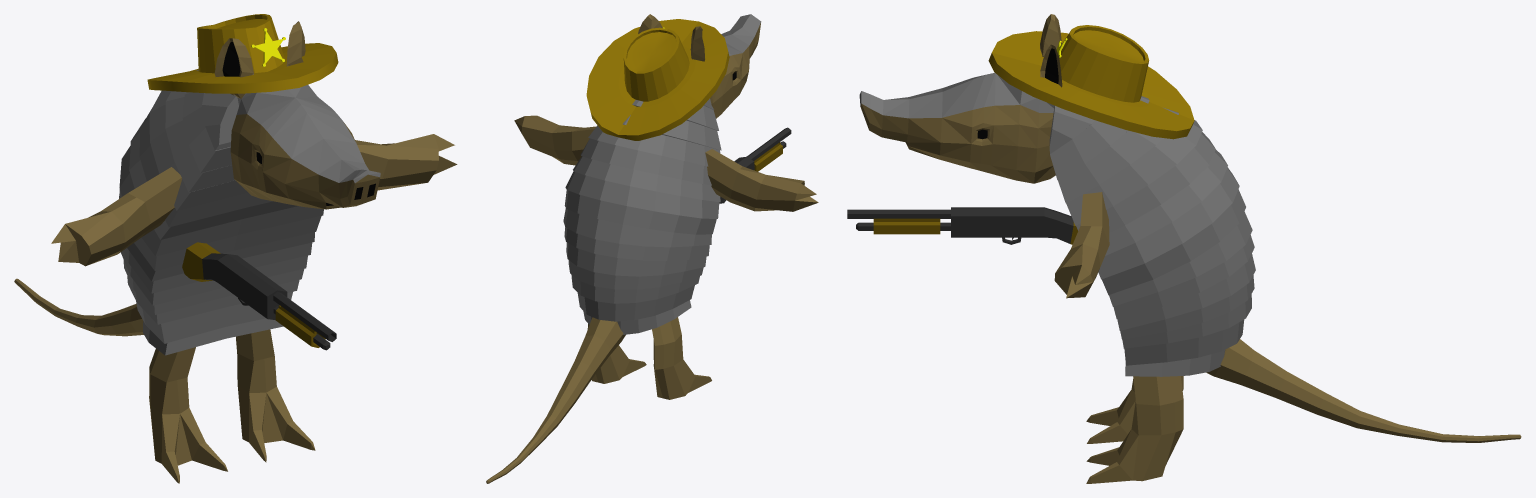
The model's file is demo armadillo.fbx.
3 renders of one model, left to right at view 1: azimuth 30°, elevation 25°; view 2: azimuth 150°, elevation 25°; view 3: azimuth 270°, elevation 25°, orthographic. The views are drawn at different scales.
Visible parts, largest first — view 1: polySurface16, polySurface14, Hat:polySurface7, polySurface19, polySurface17, Shotgun1, polySurface18, polySurface20, polySurface15; view 2: polySurface16, Hat:polySurface7, polySurface19, polySurface15, polySurface14, polySurface17, polySurface20, Shotgun1, polySurface18; view 3: polySurface16, polySurface14, Hat:polySurface7, Shotgun1, polySurface15, polySurface18, polySurface20, polySurface17.
Part boxes in pixels (x1=…): polySurface16: x1=119, y1=69, x2=323, y2=355; polySurface14: x1=214, y1=21, x2=380, y2=209; Hat:polySurface7: x1=147, y1=14, x2=338, y2=93; polySurface19: x1=51, y1=167, x2=181, y2=266; polySurface17: x1=149, y1=347, x2=227, y2=483; Shotgun1: x1=182, y1=242, x2=336, y2=350; polySurface18: x1=236, y1=329, x2=315, y2=462; polySurface20: x1=355, y1=134, x2=457, y2=190; polySurface15: x1=14, y1=278, x2=143, y2=336; polySurface16: x1=563, y1=98, x2=721, y2=334; Hat:polySurface7: x1=586, y1=19, x2=729, y2=140; polySurface19: x1=705, y1=149, x2=818, y2=211; polySurface15: x1=486, y1=317, x2=625, y2=483; polySurface14: x1=638, y1=14, x2=761, y2=118; polySurface17: x1=652, y1=317, x2=711, y2=399; polySurface20: x1=514, y1=115, x2=596, y2=165; Shotgun1: x1=719, y1=127, x2=791, y2=203; polySurface18: x1=587, y1=324, x2=646, y2=383; polySurface16: x1=1049, y1=96, x2=1255, y2=376; polySurface14: x1=859, y1=14, x2=1062, y2=183; Hat:polySurface7: x1=988, y1=25, x2=1194, y2=139; Shotgun1: x1=847, y1=207, x2=1077, y2=244; polySurface15: x1=1206, y1=339, x2=1521, y2=442; polySurface18: x1=1086, y1=376, x2=1183, y2=483; polySurface20: x1=1054, y1=192, x2=1109, y2=298; polySurface17: x1=1086, y1=376, x2=1183, y2=443.
Bounding box in the file's own units: 2.62 × 2.8 × 4.04.
